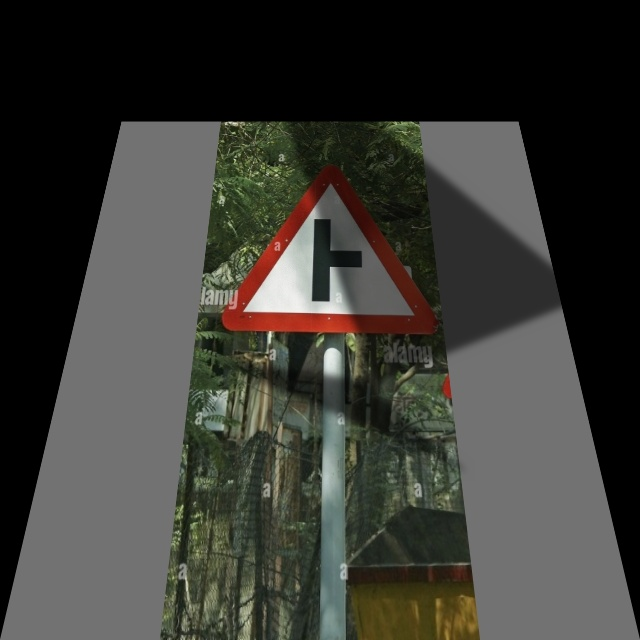Side_Road_Right: (223, 163, 438, 338)
